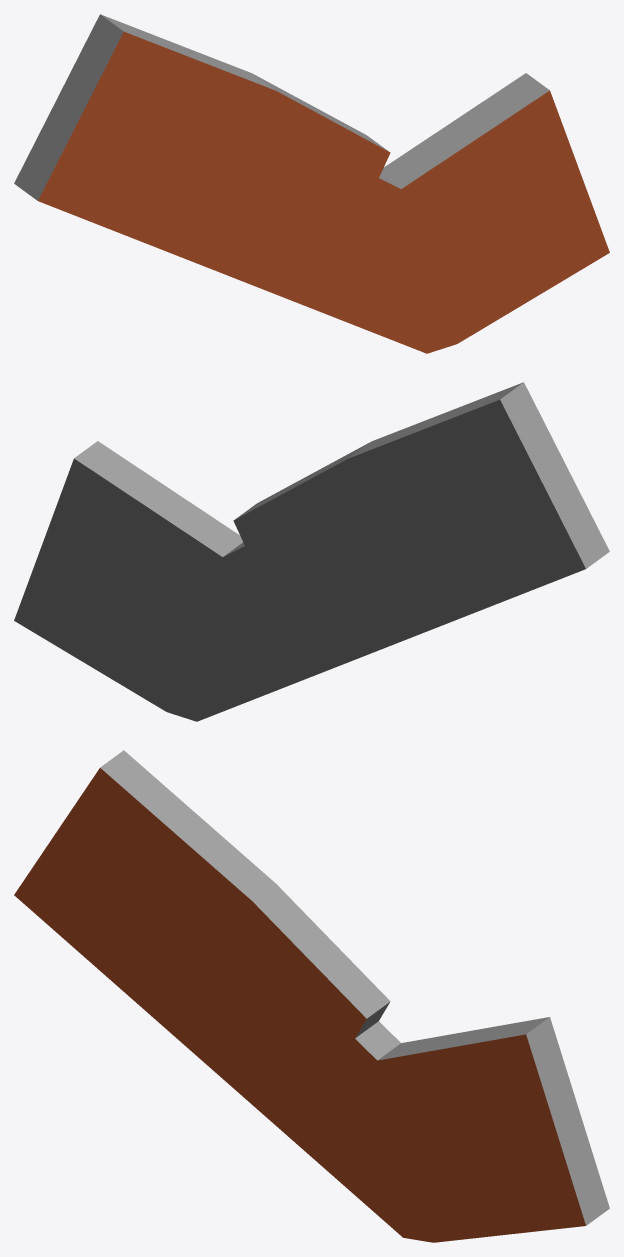
The model's file is construction_3752_assumed_A_Casa_h6m.obj.
3 views of the same model, one above another, from view 1: azimuth 30°, elevation 25°; view 2: azimuth 150°, elevation 25°; view 3: azimuth 330°, elevation 25° (orthographic).
Visible parts, largest first — view 1: construction_3752_assumed_A_Casa; view 2: construction_3752_assumed_A_Casa; view 3: construction_3752_assumed_A_Casa.
Part boxes in pixels (bbox=[...]): construction_3752_assumed_A_Casa: bbox=[14, 14, 609, 353]; construction_3752_assumed_A_Casa: bbox=[14, 382, 609, 721]; construction_3752_assumed_A_Casa: bbox=[14, 750, 609, 1242].
Size of the model in its own units: 83.04 by 54.95 by 6.
